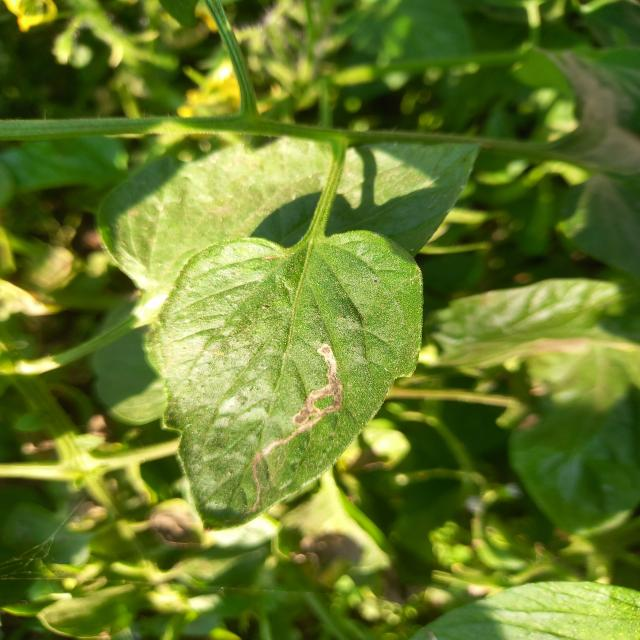Tuta absoluta: (231, 341, 366, 522)
